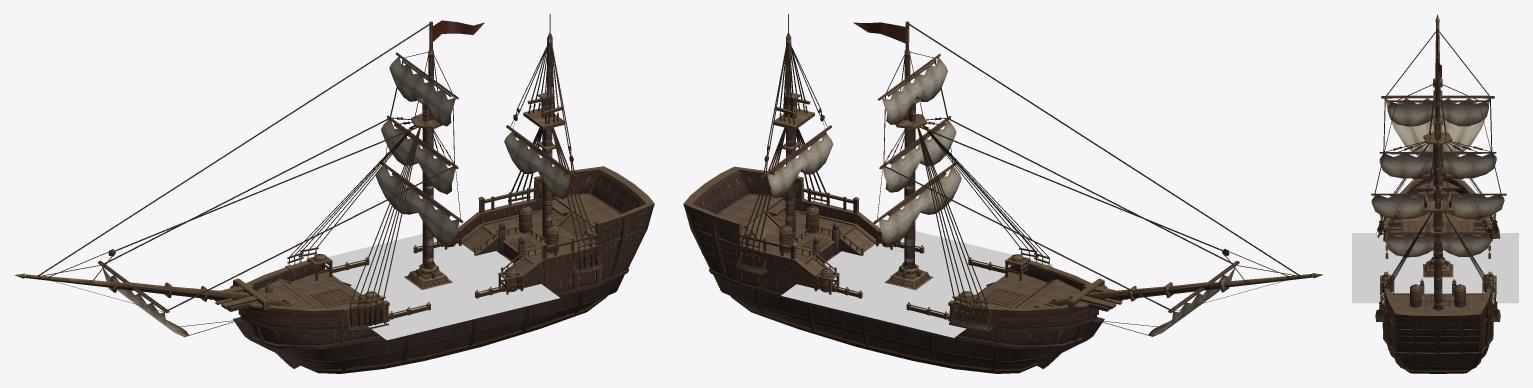
The model's file is cs_haitan_dachuan01.FBX.
The picture shows the model from 3 angles, left to right: view 1: azimuth 30°, elevation 25°; view 2: azimuth 150°, elevation 25°; view 3: azimuth 270°, elevation 25°; orthographic projection. The views are drawn at different scales.
Visible parts, largest first — view 1: cs_haitan_chuan005, cs_haitan_chuan02_walksurface001, cs_haitan_chuan01a001, cs_haitan_chuan004, cs_haitan_zawu02_a001, cs_haitan_chuan003, cs_haitan_chuan01_b001, cs_haitan_zawu003, cs_haitan_chuan01_c001, cs_zhucheng_jianzhu002; view 2: cs_haitan_chuan005, cs_haitan_chuan02_walksurface001, cs_haitan_chuan004, cs_haitan_chuan01a001, cs_haitan_zawu02_a001, cs_haitan_chuan003, cs_haitan_chuan01_b001, cs_haitan_zawu003, cs_haitan_chuan01_c001, cs_zhucheng_jianzhu002; view 3: cs_haitan_zawu02_a001, cs_haitan_chuan02_walksurface001, cs_haitan_chuan005, cs_haitan_chuan01a001, cs_haitan_zawu003, cs_haitan_chuan003, cs_haitan_chuan01_b001, cs_haitan_chuan004, cs_haitan_chuan01_c001, cs_zhucheng_jianzhu002.
Part boxes in pixels (bbox=[...]): cs_haitan_chuan005: bbox=[14, 14, 596, 313]; cs_haitan_chuan02_walksurface001: bbox=[325, 224, 559, 340]; cs_haitan_chuan01a001: bbox=[124, 166, 654, 345]; cs_haitan_chuan004: bbox=[233, 269, 629, 373]; cs_haitan_zawu02_a001: bbox=[375, 20, 570, 246]; cs_haitan_chuan003: bbox=[180, 172, 651, 345]; cs_haitan_chuan01_b001: bbox=[257, 194, 618, 308]; cs_haitan_zawu003: bbox=[102, 205, 603, 337]; cs_haitan_chuan01_c001: bbox=[307, 228, 524, 319]; cs_zhucheng_jianzhu002: bbox=[289, 102, 596, 326]; cs_haitan_chuan005: bbox=[741, 14, 1322, 312]; cs_haitan_chuan02_walksurface001: bbox=[781, 224, 1053, 337]; cs_haitan_chuan004: bbox=[709, 269, 1104, 373]; cs_haitan_chuan01a001: bbox=[683, 166, 1213, 345]; cs_haitan_zawu02_a001: bbox=[767, 22, 961, 244]; cs_haitan_chuan003: bbox=[686, 173, 1157, 345]; cs_haitan_chuan01_b001: bbox=[719, 194, 1091, 315]; cs_haitan_zawu003: bbox=[735, 205, 1235, 336]; cs_haitan_chuan01_c001: bbox=[814, 228, 1029, 319]; cs_zhucheng_jianzhu002: bbox=[741, 102, 1049, 326]; cs_haitan_zawu02_a001: bbox=[1371, 62, 1504, 257]; cs_haitan_chuan02_walksurface001: bbox=[1352, 233, 1518, 303]; cs_haitan_chuan005: bbox=[1371, 14, 1506, 310]; cs_haitan_chuan01a001: bbox=[1377, 90, 1498, 353]; cs_haitan_zawu003: bbox=[1375, 78, 1500, 322]; cs_haitan_chuan003: bbox=[1381, 179, 1495, 352]; cs_haitan_chuan01_b001: bbox=[1390, 191, 1488, 312]; cs_haitan_chuan004: bbox=[1382, 307, 1493, 373]; cs_haitan_chuan01_c001: bbox=[1380, 216, 1496, 306]; cs_zhucheng_jianzhu002: bbox=[1378, 145, 1498, 318].
Bounding box in the file's own units: 2761 × 1324 × 773.
